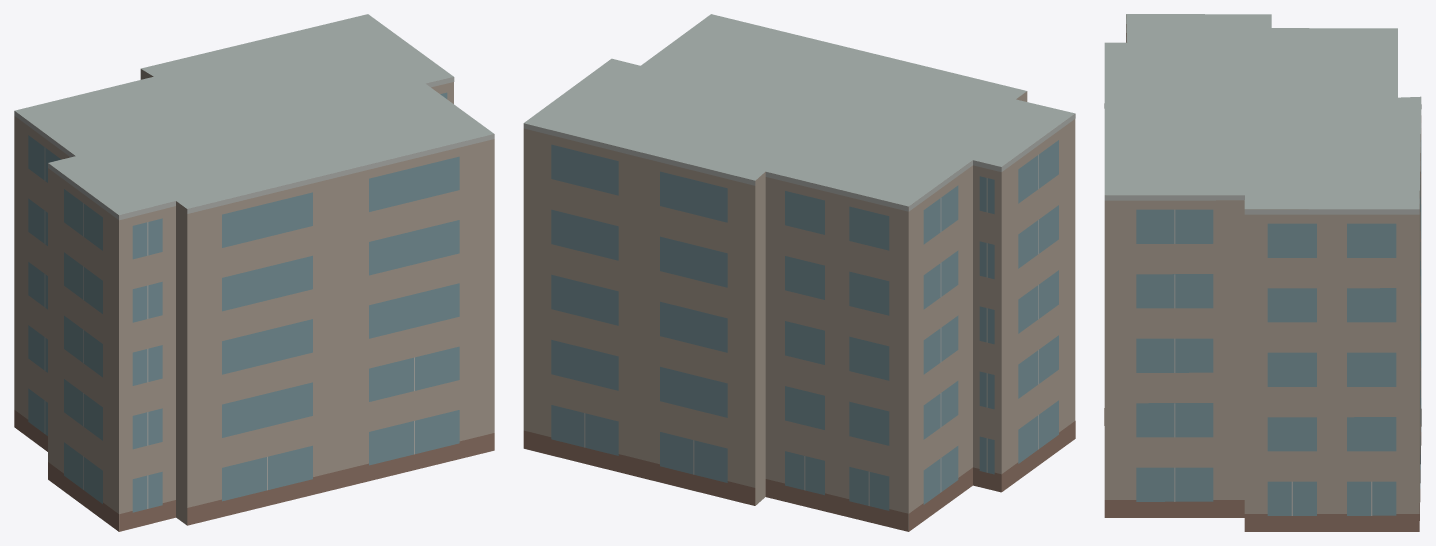
File: survey-upis-32815837.glb
The picture shows the model from 3 angles, left to right: view 1: azimuth 30°, elevation 25°; view 2: azimuth 150°, elevation 25°; view 3: azimuth 270°, elevation 25°; orthographic projection. The views are drawn at different scales.
Parts seen in each view (by area): view 1: survey-upis-32815837.tmp; view 2: survey-upis-32815837.tmp; view 3: survey-upis-32815837.tmp.
Part boxes in pixels (<box>): survey-upis-32815837.tmp: <box>14,14,494,531</box>; survey-upis-32815837.tmp: <box>523,14,1075,531</box>; survey-upis-32815837.tmp: <box>1104,14,1421,531</box>.
Size of the model in its own units: 19.9 by 15.3 by 13.64.
